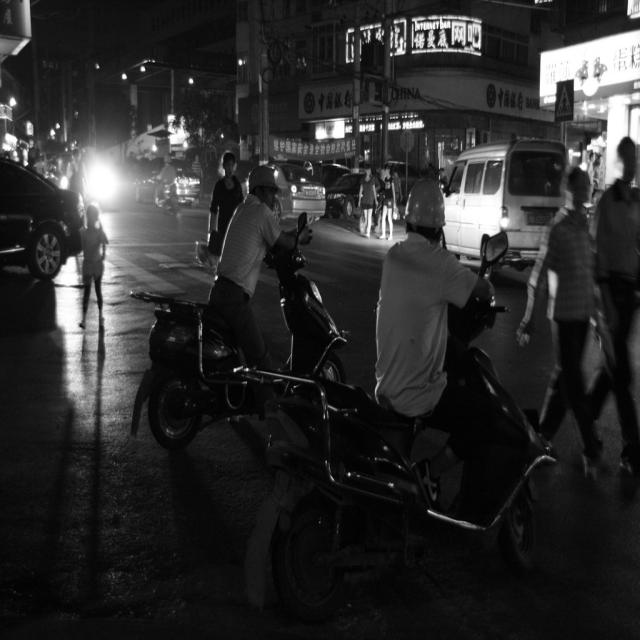Motorbike: (301, 336, 583, 603), (153, 282, 355, 470)
People: (370, 171, 465, 457), (206, 154, 296, 415), (550, 135, 596, 451), (600, 110, 640, 466), (77, 192, 123, 338), (207, 135, 238, 268), (376, 137, 397, 252), (348, 164, 378, 243)
car: (439, 122, 573, 271), (0, 147, 88, 274), (267, 149, 333, 215)
